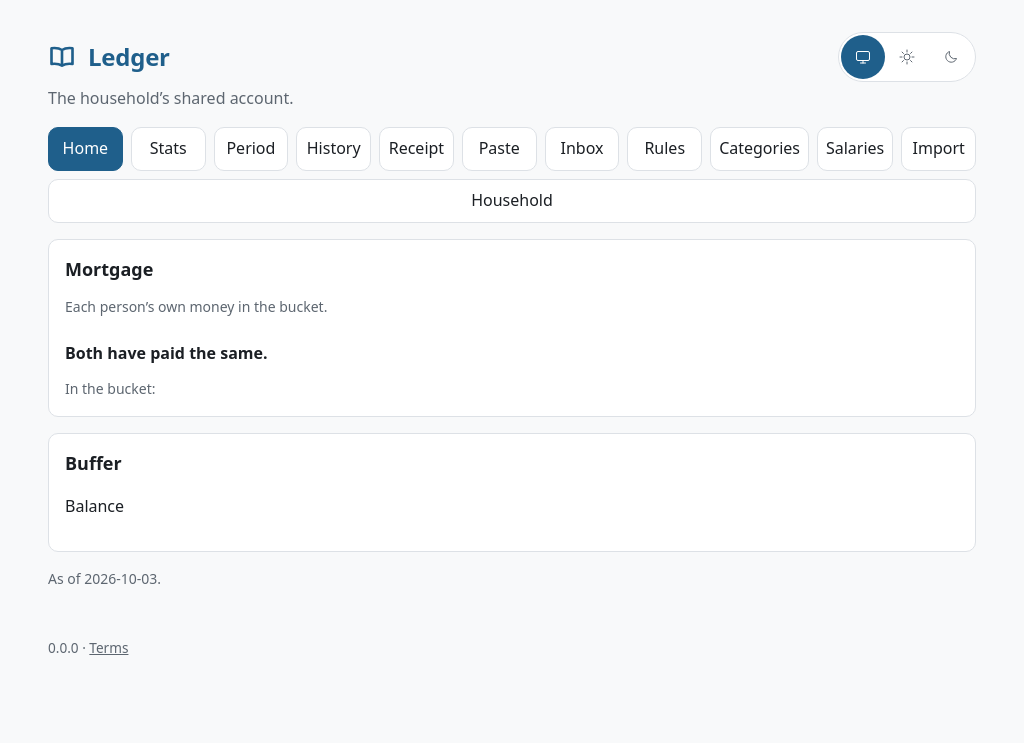
Scenario: a member has a household tab showing their own household, and no admin tab (lg-22)
Click the button "Household" at x=512, y=201, box [48,179,976,223]
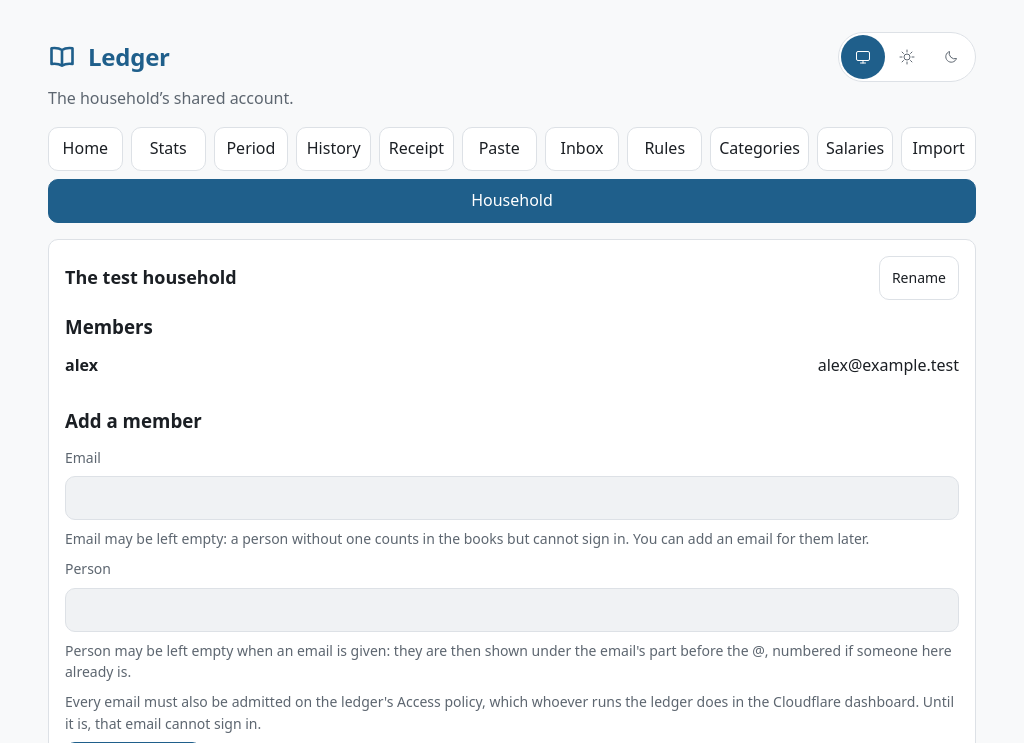
Expected: the heading "The test household" is shown, [65,265,237,289]
